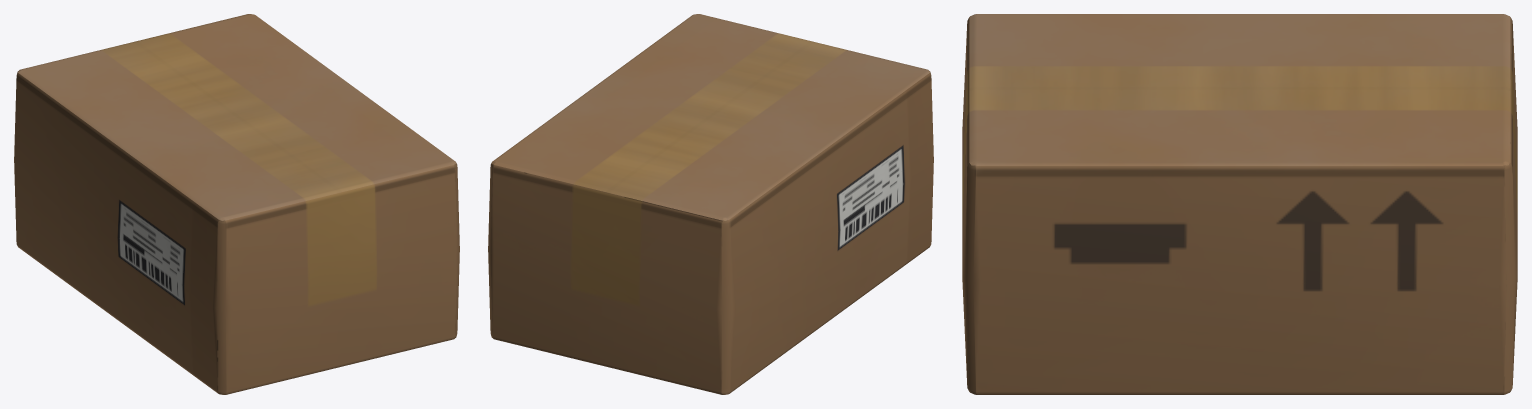
File: SmallCarton.fbx
3 views of the same model, side by side, from view 1: azimuth 30°, elevation 25°; view 2: azimuth 150°, elevation 25°; view 3: azimuth 270°, elevation 25° (orthographic). The views are drawn at different scales.
Visible parts, largest first — view 1: SmallCarton_LOD0; view 2: SmallCarton_LOD0; view 3: SmallCarton_LOD0.
Part boxes in pixels (box(x1,y1,x2,y2)): SmallCarton_LOD0: box(14, 14, 459, 394); SmallCarton_LOD0: box(488, 14, 933, 394); SmallCarton_LOD0: box(962, 14, 1517, 394).
Size of what is drawn, in the model's own units: 0.175 by 0.12 by 0.26.
1 material, 1 textured.
